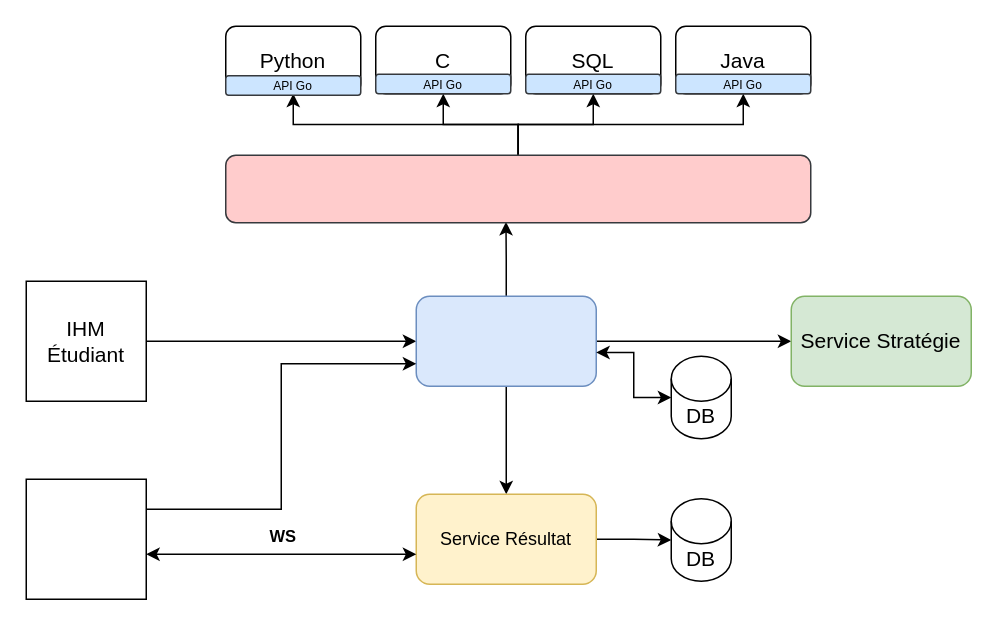
The diagram is 998 pixels wide and 626 high, and some of its shapes have lost their labels. The box of each missing label's shape, as (x1, y1, x2, y2) in pixels:
IHM Enseignant: (25, 478, 146, 599)
Service d'Execution: (224, 154, 811, 223)
Service Exercice: (415, 295, 596, 386)
